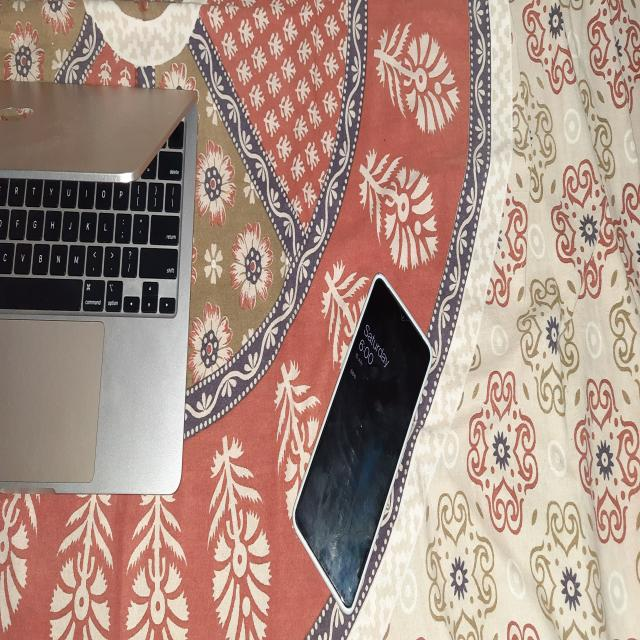Laptop-and-Mobile: (0, 82, 203, 495)
Mobile: (294, 265, 442, 621)
